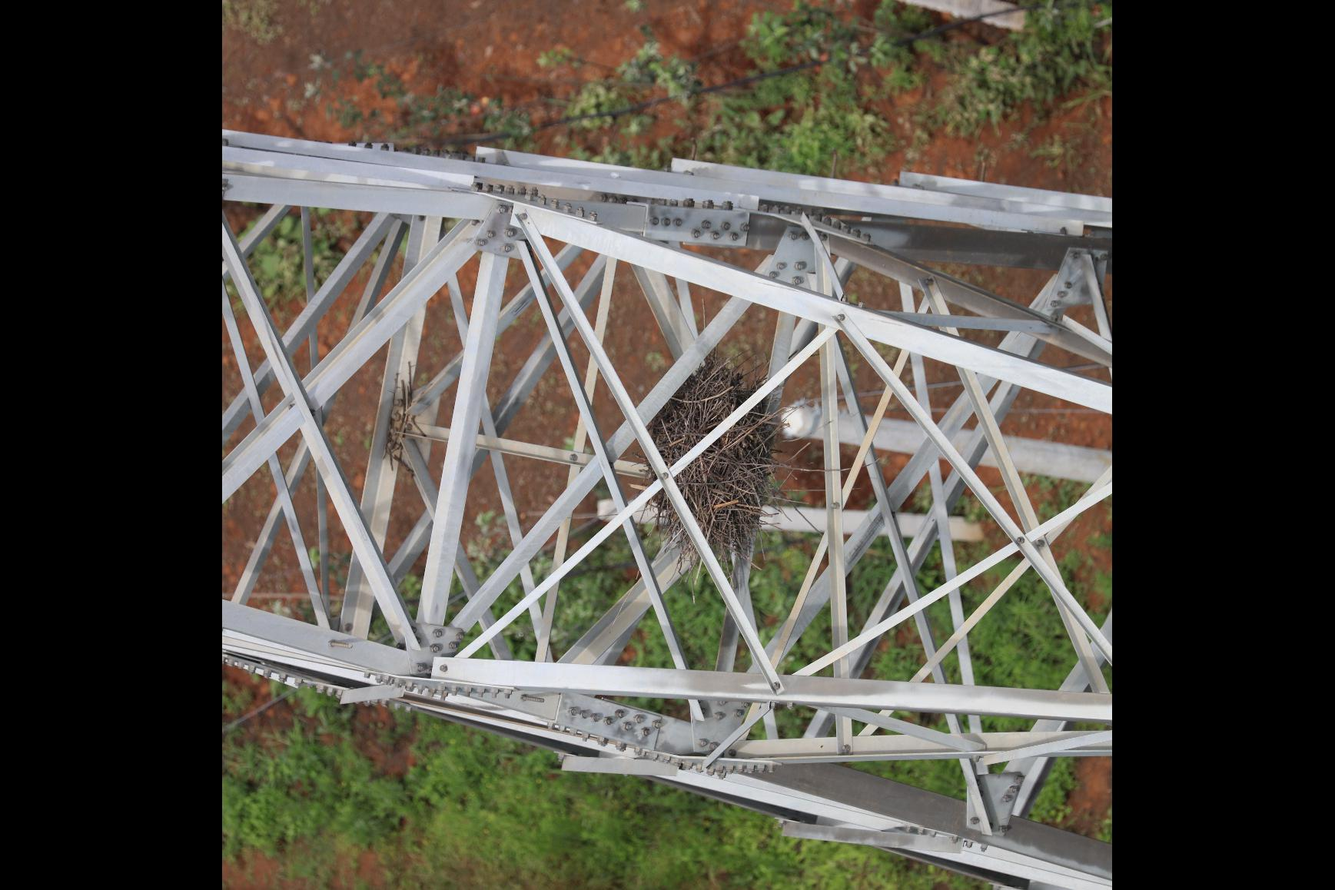nest: (644, 349, 782, 566)
